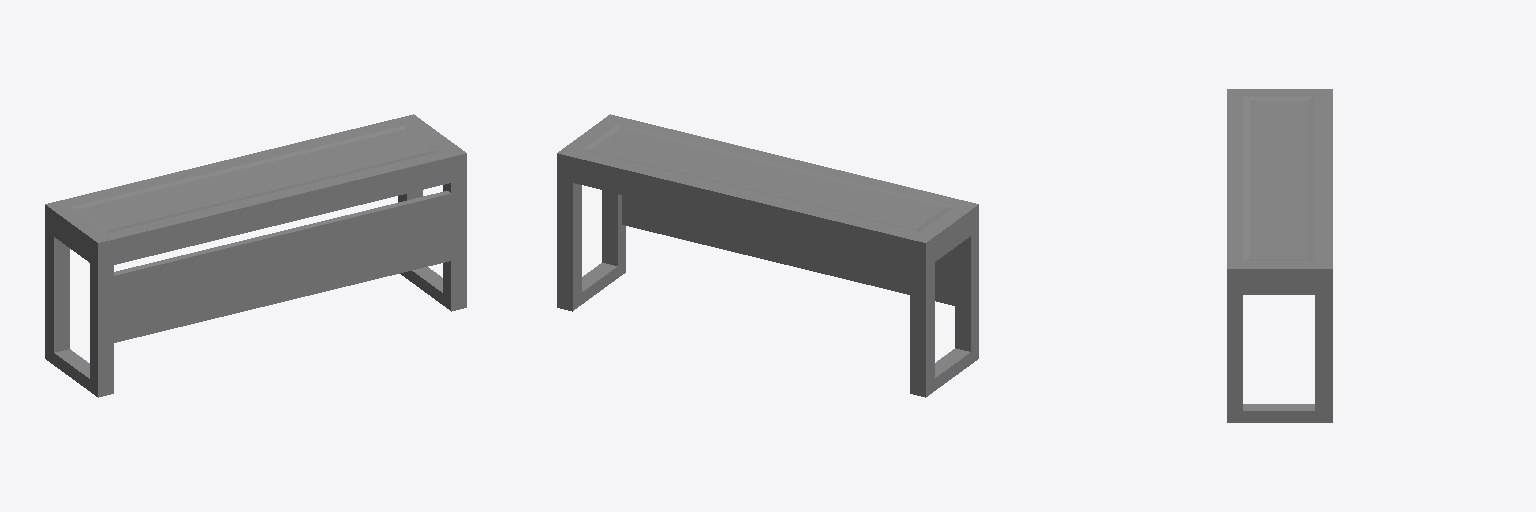
Rendered from table.obj.
3 renders of one model, left to right at view 1: azimuth 30°, elevation 25°; view 2: azimuth 150°, elevation 25°; view 3: azimuth 270°, elevation 25°, orthographic.
Parts seen in each view (by area): view 1: legs, tabletop; view 2: tabletop, legs; view 3: tabletop, legs.
Boxes of the visible parts, x1=… form: legs: x1=45, y1=179, x2=466, y2=397; tabletop: x1=45, y1=114, x2=466, y2=268; tabletop: x1=557, y1=114, x2=978, y2=268; legs: x1=557, y1=179, x2=978, y2=397; tabletop: x1=1227, y1=89, x2=1332, y2=294; legs: x1=1227, y1=295, x2=1332, y2=422.
Size of the model in its own units: 60 by 24 by 15.